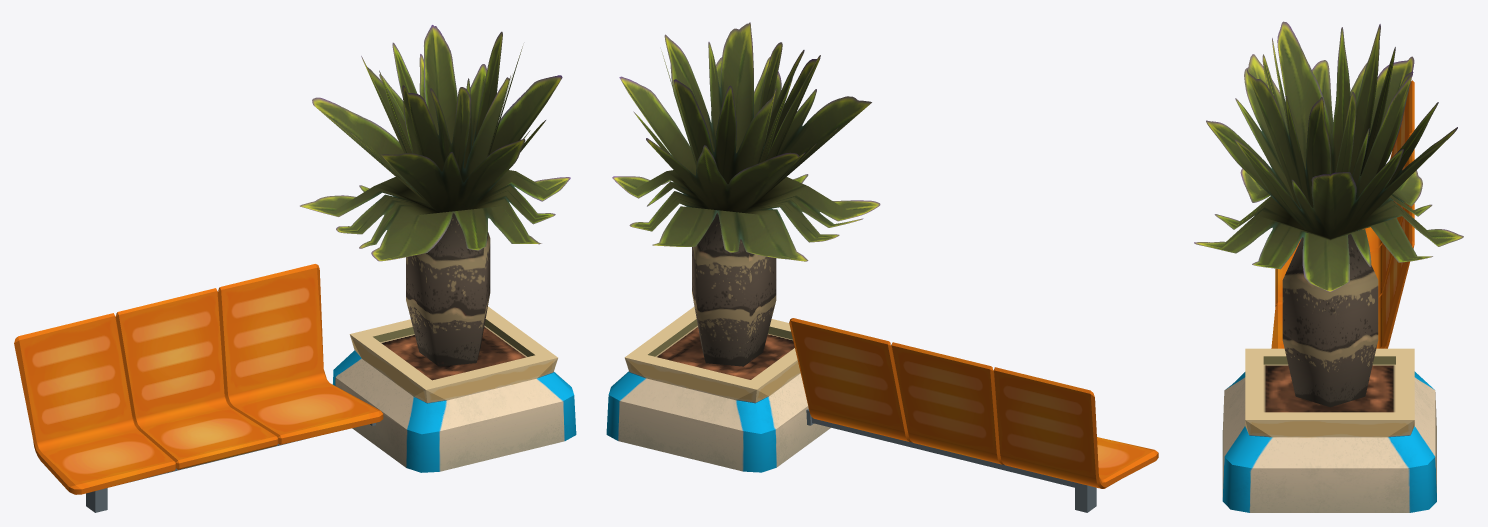
The model's file is banc.fbx.
3 views of the same model, side by side, from view 1: azimuth 30°, elevation 25°; view 2: azimuth 150°, elevation 25°; view 3: azimuth 270°, elevation 25° (orthographic). The views are drawn at different scales.
Visible parts, largest first — view 1: banc; view 2: banc; view 3: banc.
Part boxes in pixels (bbox=[...]): banc: bbox=[14, 25, 576, 512]; banc: bbox=[606, 22, 1158, 512]; banc: bbox=[1194, 21, 1463, 512].
Size of the model in its own units: 172 by 116 by 72.69.
